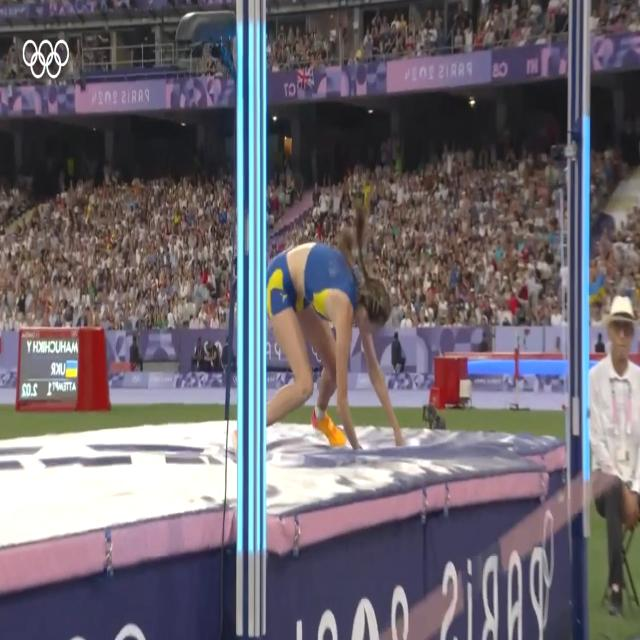land: (265, 190, 403, 467)
